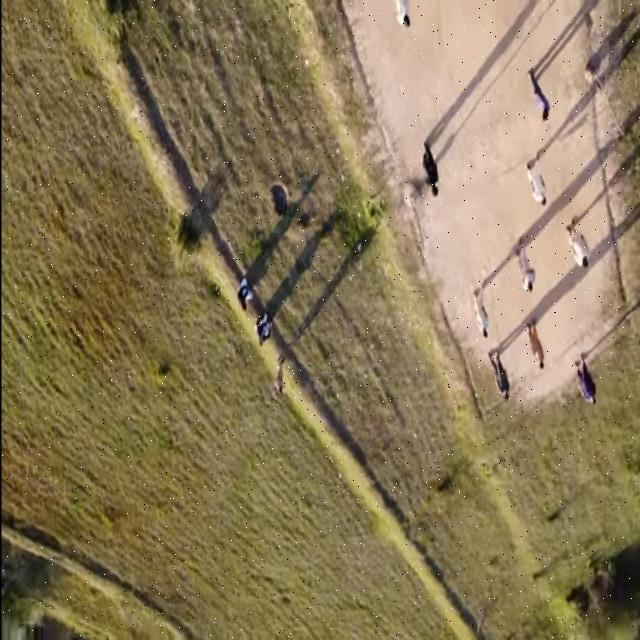humans: (512, 232, 536, 296), (573, 348, 598, 409), (471, 271, 491, 347), (566, 218, 594, 272), (525, 152, 551, 209), (422, 132, 442, 203), (488, 342, 510, 406), (528, 75, 553, 128), (527, 314, 546, 370), (251, 313, 275, 351), (235, 276, 256, 317), (392, 0, 413, 32), (274, 358, 287, 398)
